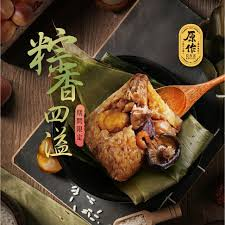zongzi: (85, 73, 182, 180)
